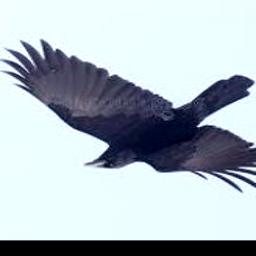Crow: (2, 42, 256, 195)
